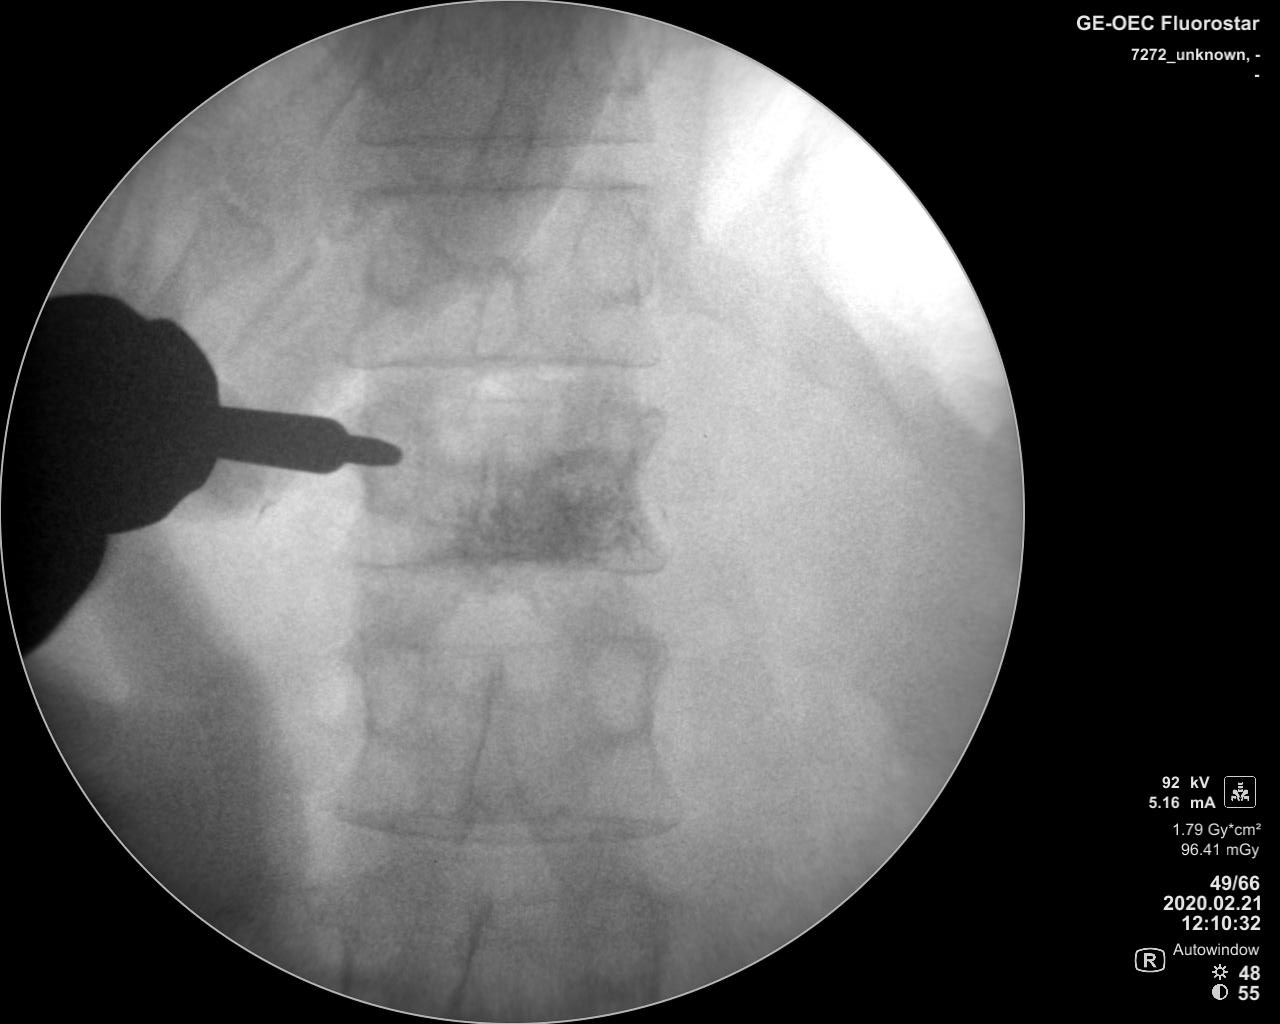eyes: (572, 196, 655, 306), (358, 410, 433, 517), (576, 634, 655, 734), (348, 639, 424, 730)
line: (319, 800, 691, 852), (315, 548, 692, 585), (333, 341, 664, 382), (324, 171, 672, 206), (335, 124, 673, 156)
nose: (465, 652, 525, 828), (467, 437, 521, 606), (472, 246, 528, 371)
